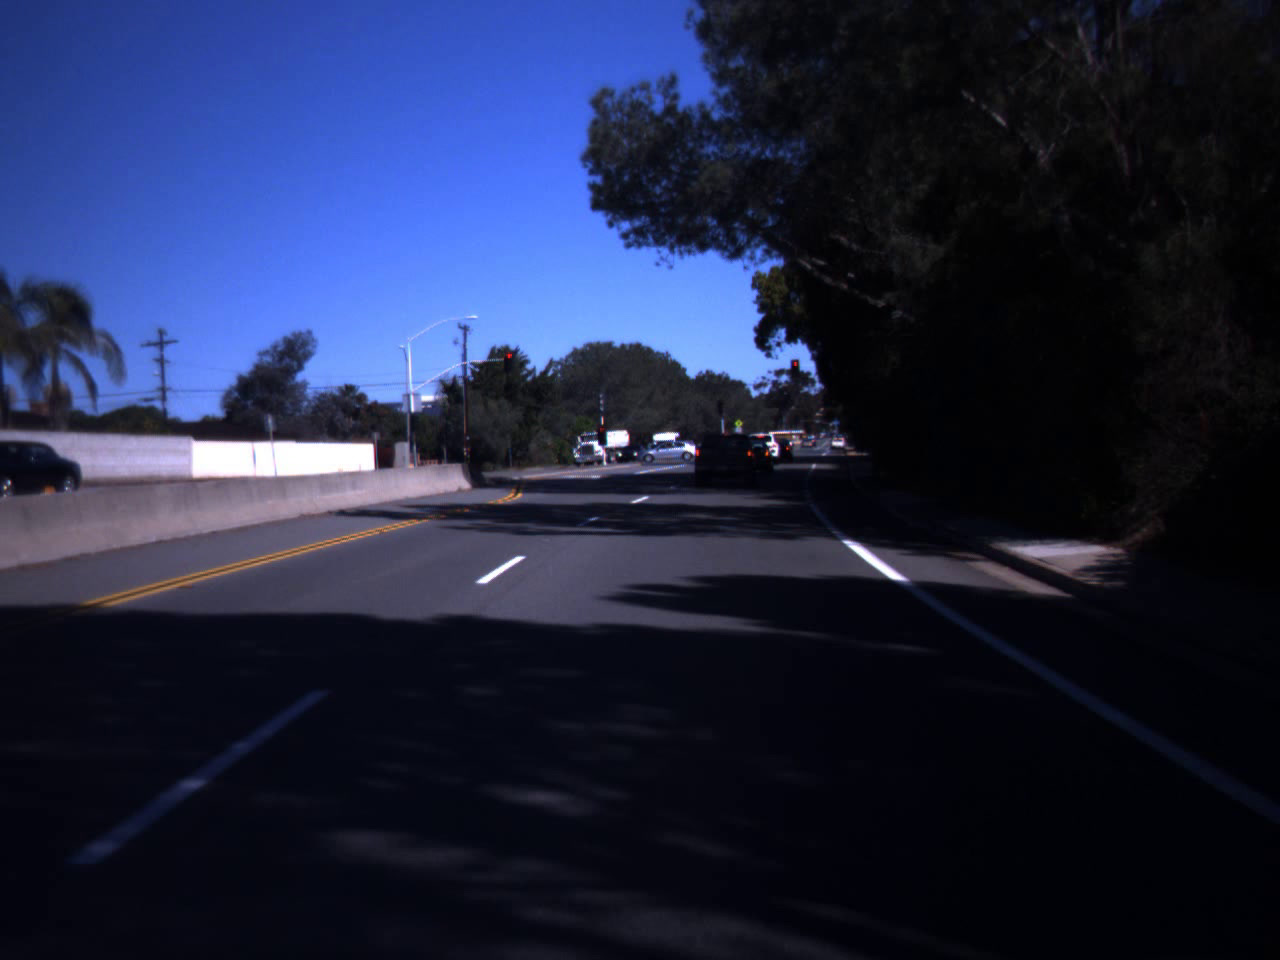stop: (591, 424, 612, 446), (504, 352, 516, 370)
